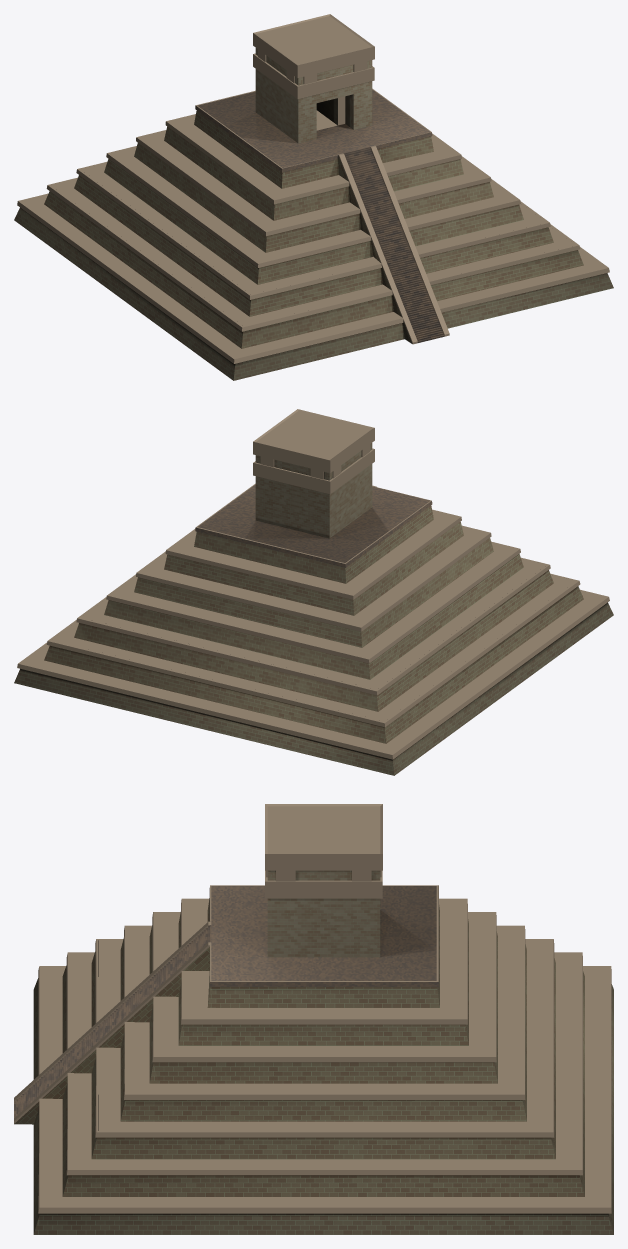
The model's file is mayan_pyramid.glb.
3 views of the same model, one above another, from view 1: azimuth 30°, elevation 25°; view 2: azimuth 150°, elevation 25°; view 3: azimuth 270°, elevation 25° (orthographic). The views are drawn at different scales.
Parts seen in each view (by area): view 1: Pyramid.001_11, Bricks_12, Top Tile_15, Stairs_13, Chamber_14; view 2: Pyramid.001_11, Bricks_12, Top Tile_15, Chamber_14; view 3: Pyramid.001_11, Bricks_12, Top Tile_15, Chamber_14, Stairs_13.
Boxes of the visible parts, x1,y1,x2,y2 form: Pyramid.001_11: [17, 14, 609, 363]; Bricks_12: [14, 110, 613, 380]; Top Tile_15: [195, 90, 432, 172]; Stairs_13: [343, 147, 444, 342]; Chamber_14: [255, 48, 372, 143]; Pyramid.001_11: [17, 409, 609, 759]; Bricks_12: [14, 505, 613, 775]; Top Tile_15: [195, 485, 432, 567]; Chamber_14: [255, 443, 372, 538]; Pyramid.001_11: [14, 804, 611, 1213]; Bricks_12: [14, 898, 613, 1234]; Top Tile_15: [209, 885, 438, 986]; Chamber_14: [267, 870, 380, 957]; Stairs_13: [14, 925, 211, 1117].
Bounding box in the file's own units: 20.6 × 12.09 × 21.3.
Materials: 6 (4 with a texture image).
